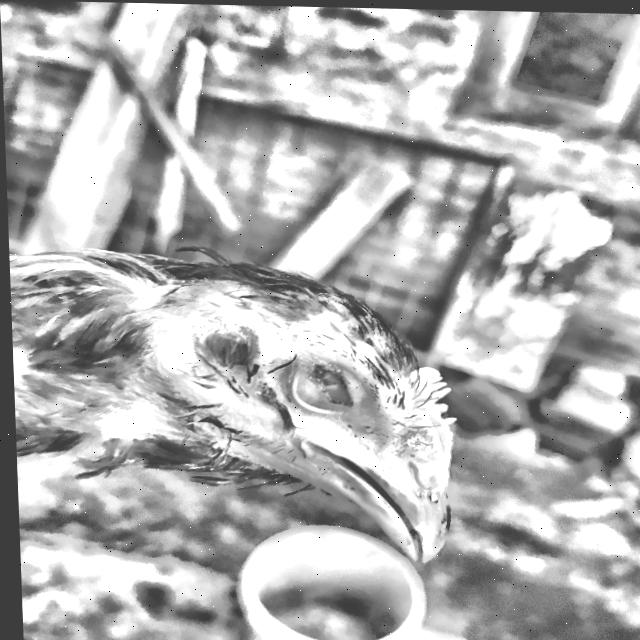Coryza: (95, 270, 477, 567)
